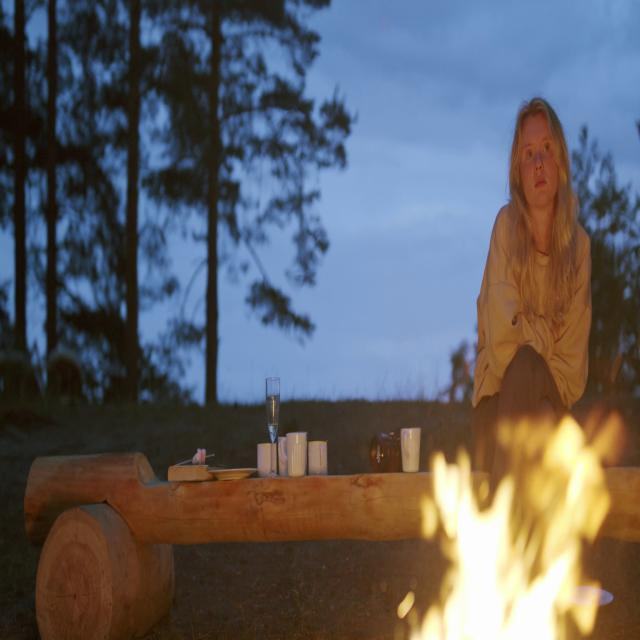Fire: (400, 408, 640, 640)
